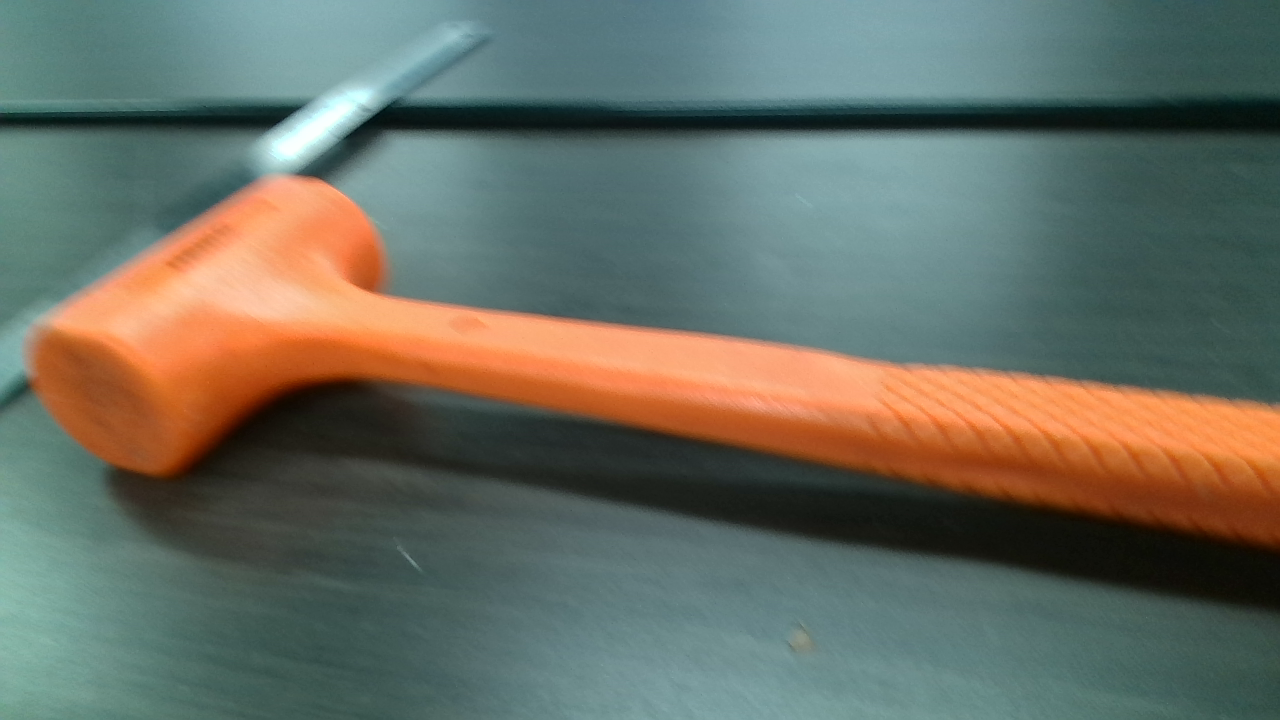Orange Hammer: (21, 180, 1266, 589)
